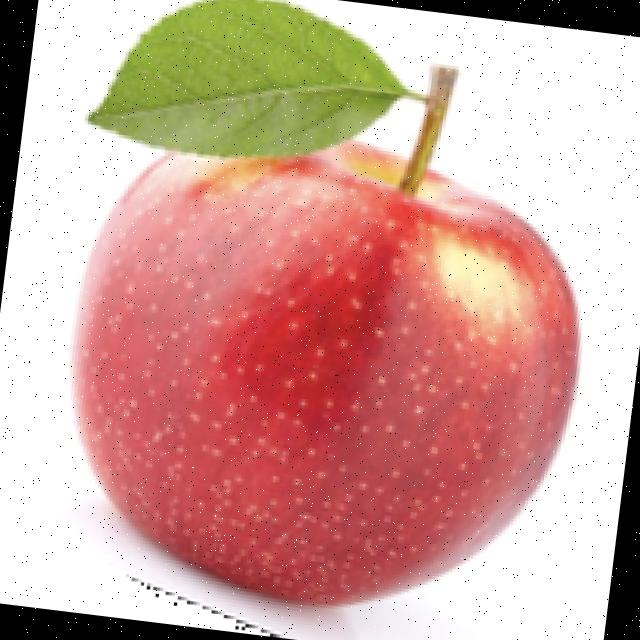apple: (66, 0, 586, 640)
